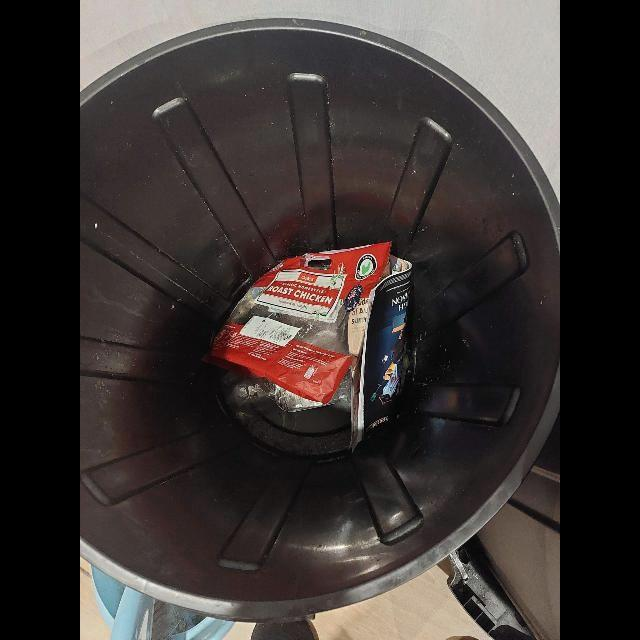food_wrapper: (210, 242, 391, 405)
paper: (349, 256, 412, 453)
